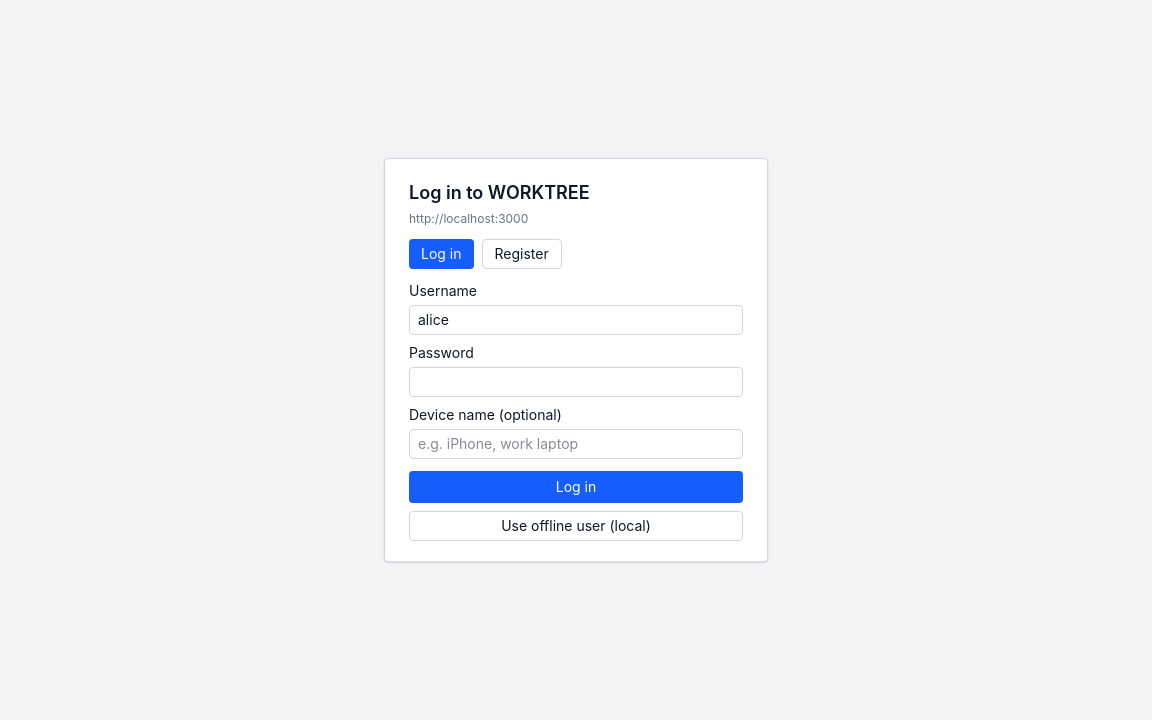
Test case: App auth gate › logs in and swaps to the shell with the stored token
The image size is (1152, 720).
Type "hunter2222" into the password field with test id "auth-password".
click(576, 382); type("hunter2222")  # box [409, 367, 743, 397]
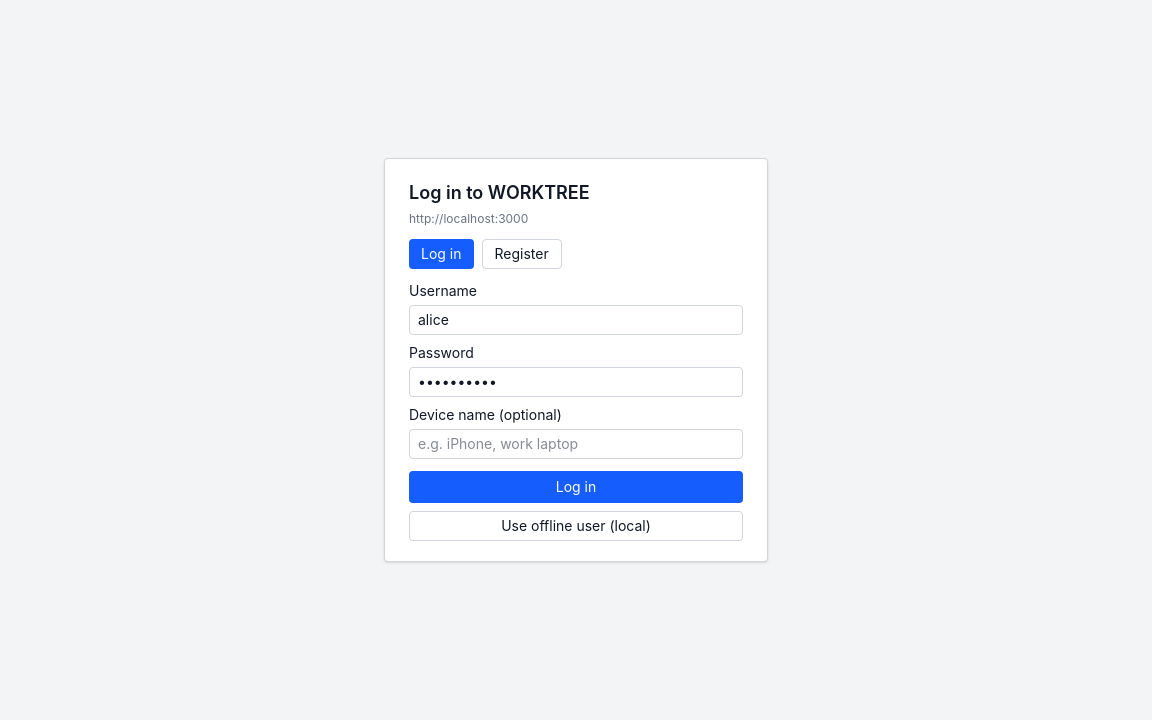
Click the button with test id "auth-submit".
click(576, 487)  # box [409, 471, 743, 503]
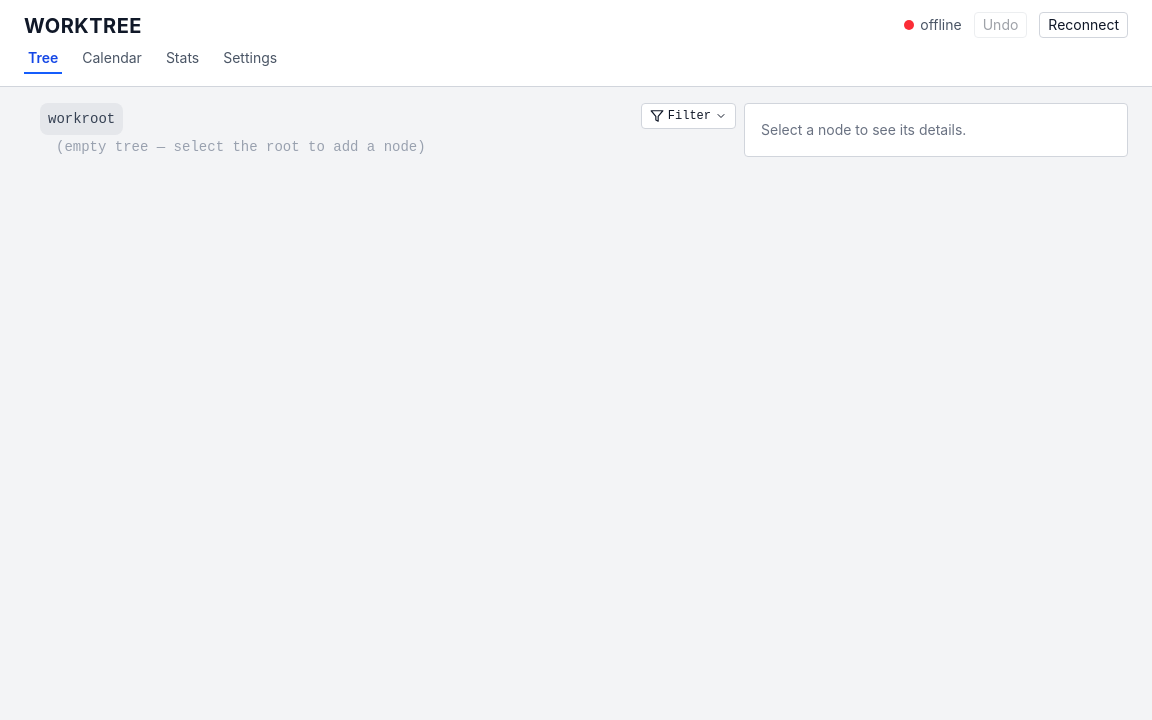
Expected: the button with test id "auth-submit" is gone
